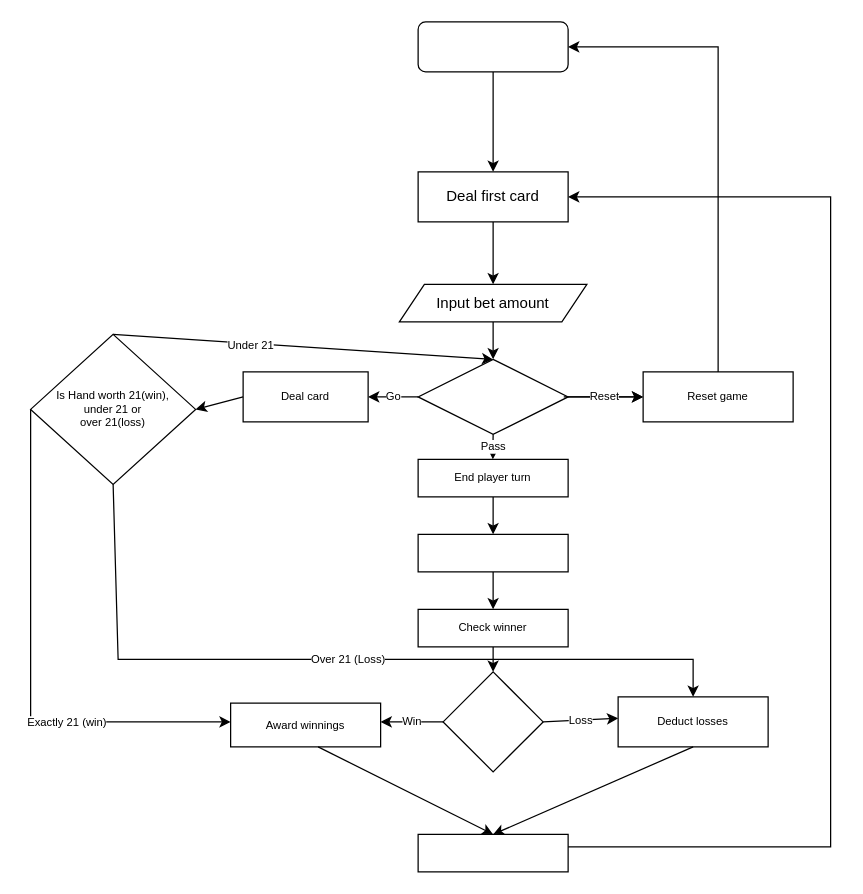
This 863x894 diagram has some shape labels left out. Each missing label, with the centre of its shape:
"Game start page" belongs at pixel 492 46.
"Player wins or loses?" belongs at pixel 492 721.
"Reset hand" belongs at pixel 492 852.
"Run Dealer Ai" belongs at pixel 492 552.
"Select, go, pass or reset" belongs at pixel 492 396.
